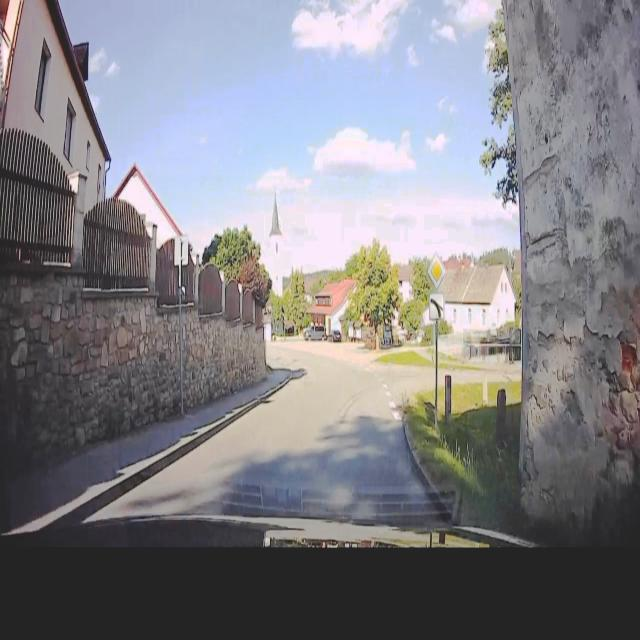Priority road: (423, 250, 446, 287)
